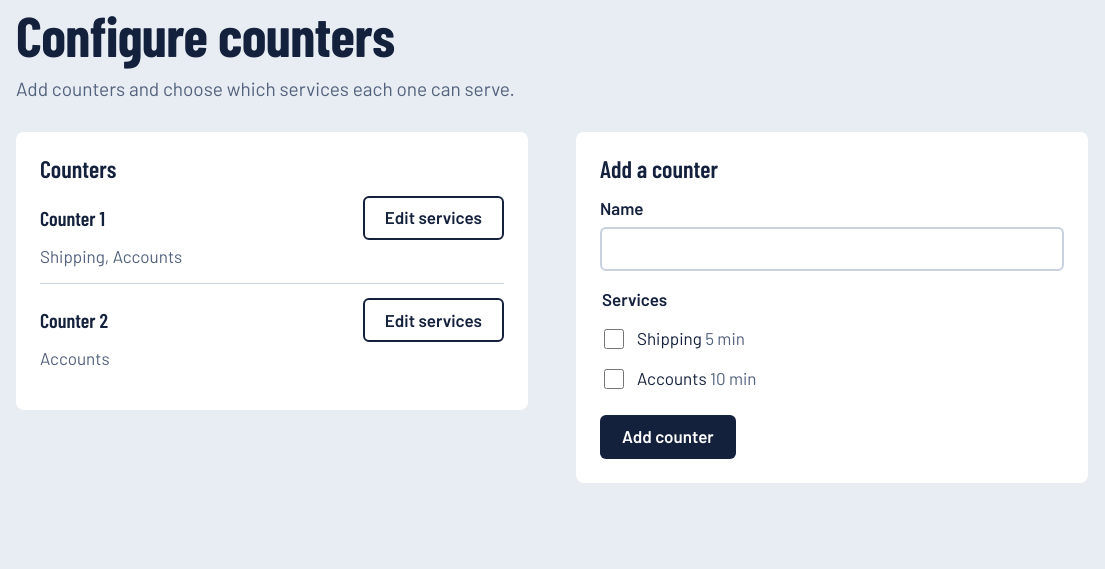
Test: Config counters › changes the services of a counter
The image size is (1105, 569).
Click the button with aria-label "Edit services of Counter 2" at (433, 320), box [363, 298, 504, 342]
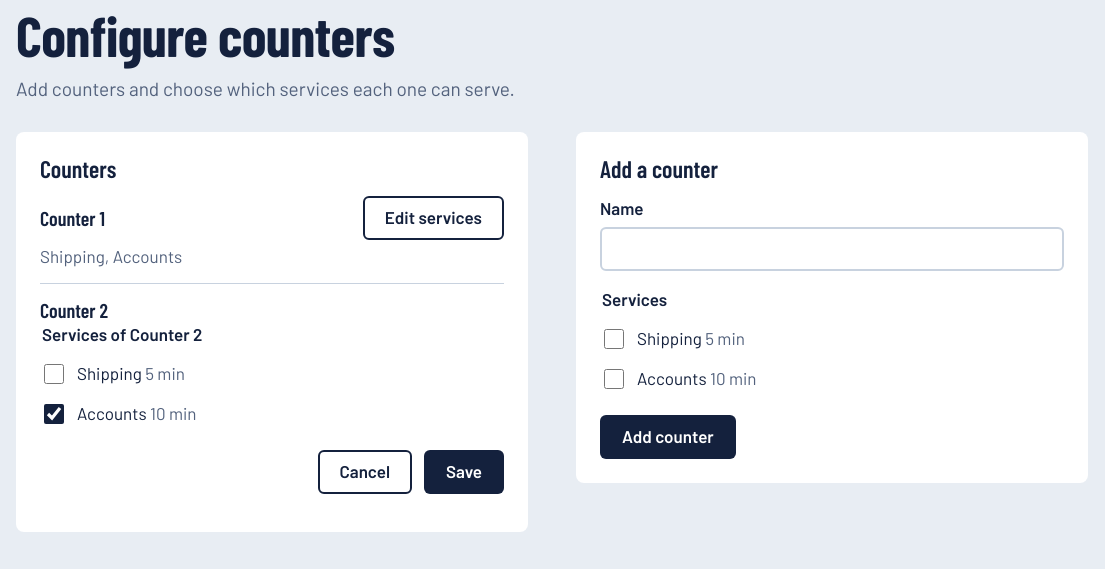
Now the checkbox labelled "Accounts 10 min" below "Services of Counter 2" is checked, box [44, 404, 64, 424]
Click the checkbox labelled "Shipping 5 min" below "Services of Counter 2" at (54, 374), box [44, 364, 64, 384]
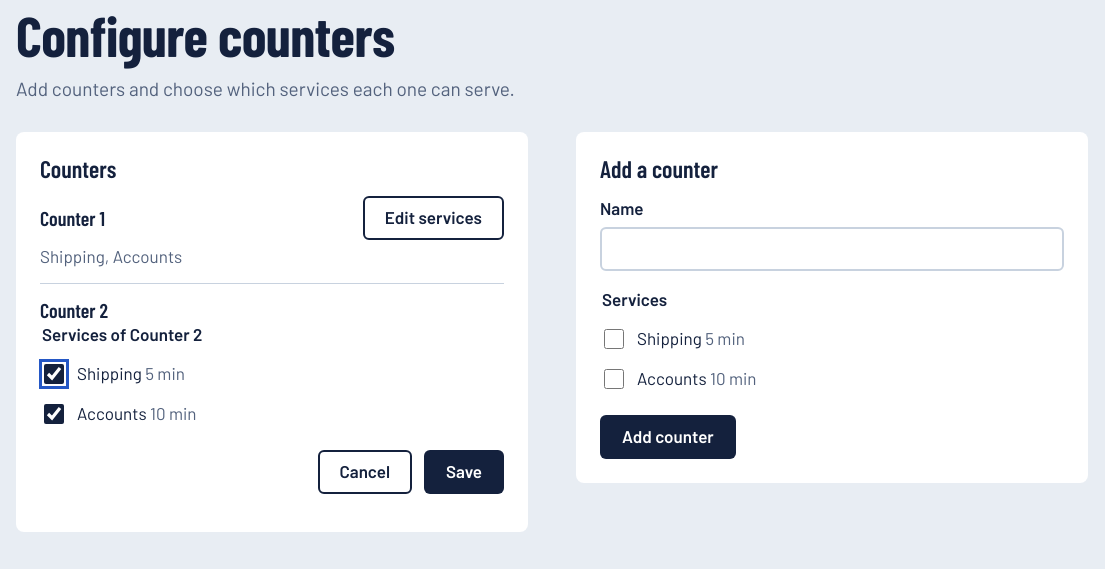
Click the button "Save" at (464, 472), box [424, 450, 504, 494]
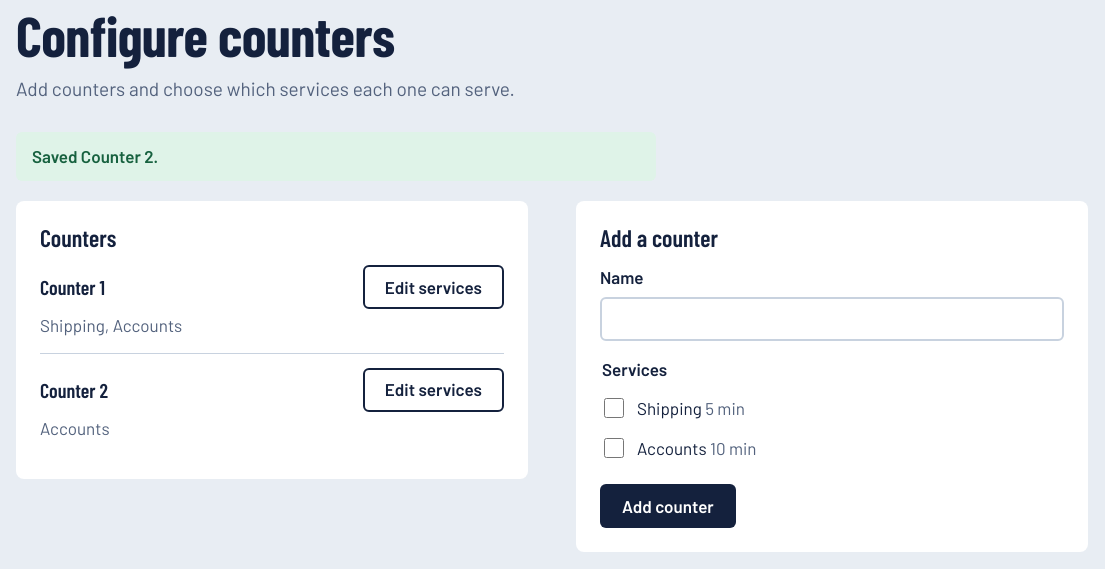
Now the text "Saved Counter 2." is shown, box [16, 132, 656, 181]
